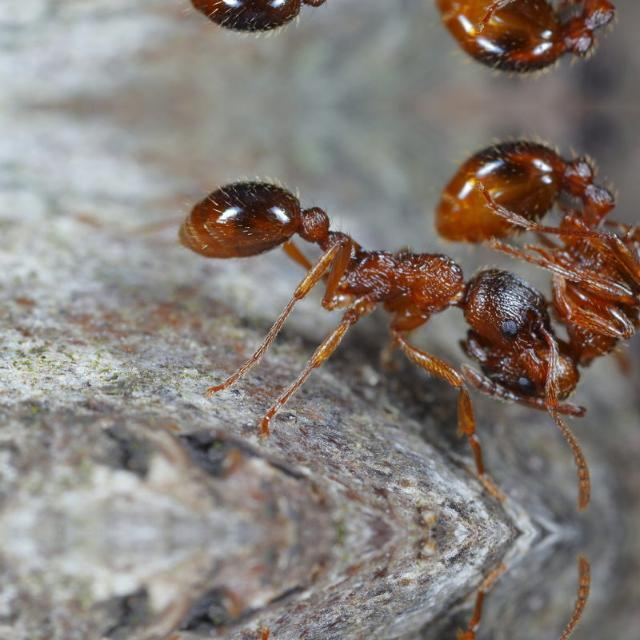Myrmica: (198, 152, 562, 396), (426, 109, 640, 411), (425, 0, 638, 102), (198, 0, 560, 60)
